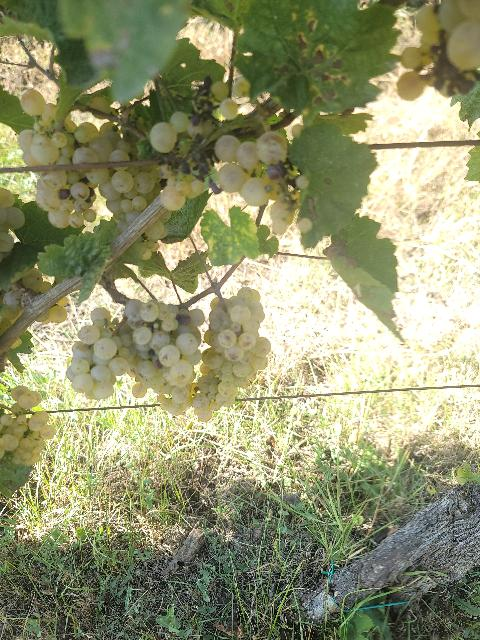grapes: (16, 90, 97, 226), (192, 286, 271, 421), (76, 124, 159, 227), (125, 300, 204, 406), (70, 308, 134, 400), (0, 385, 55, 466)
